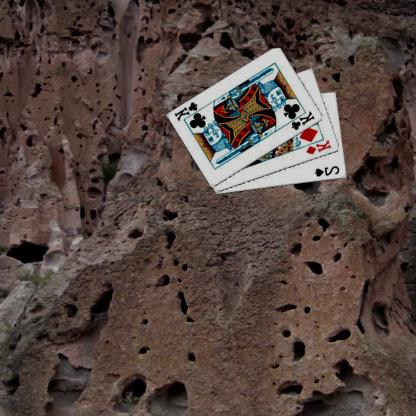2S: (314, 163, 342, 178)
KC: (286, 109, 318, 131), (174, 100, 206, 122)
KD: (306, 138, 335, 156)
